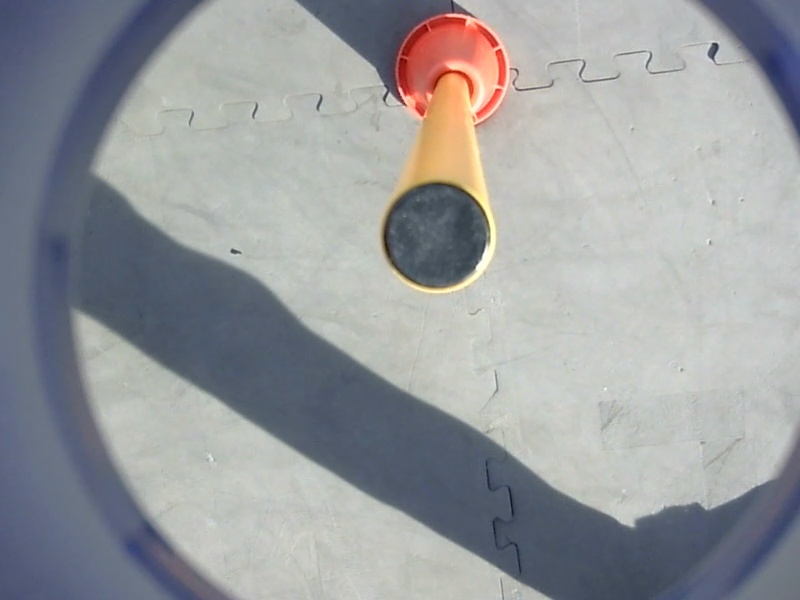tip: (371, 173, 505, 303)
